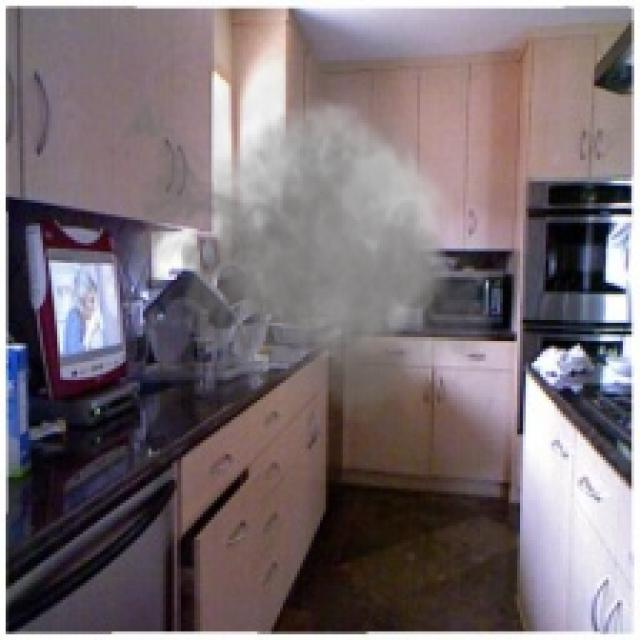smoke: (106, 29, 508, 437)
